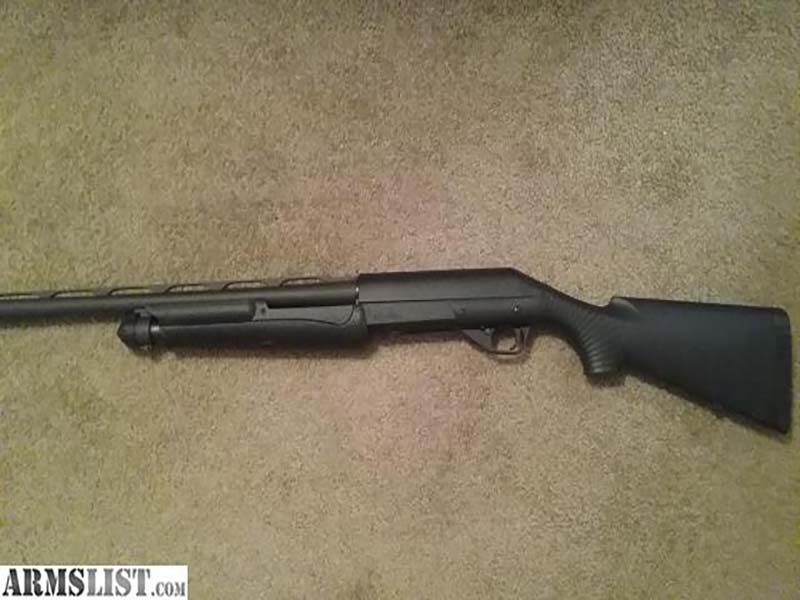fucile: (3, 271, 800, 454)
